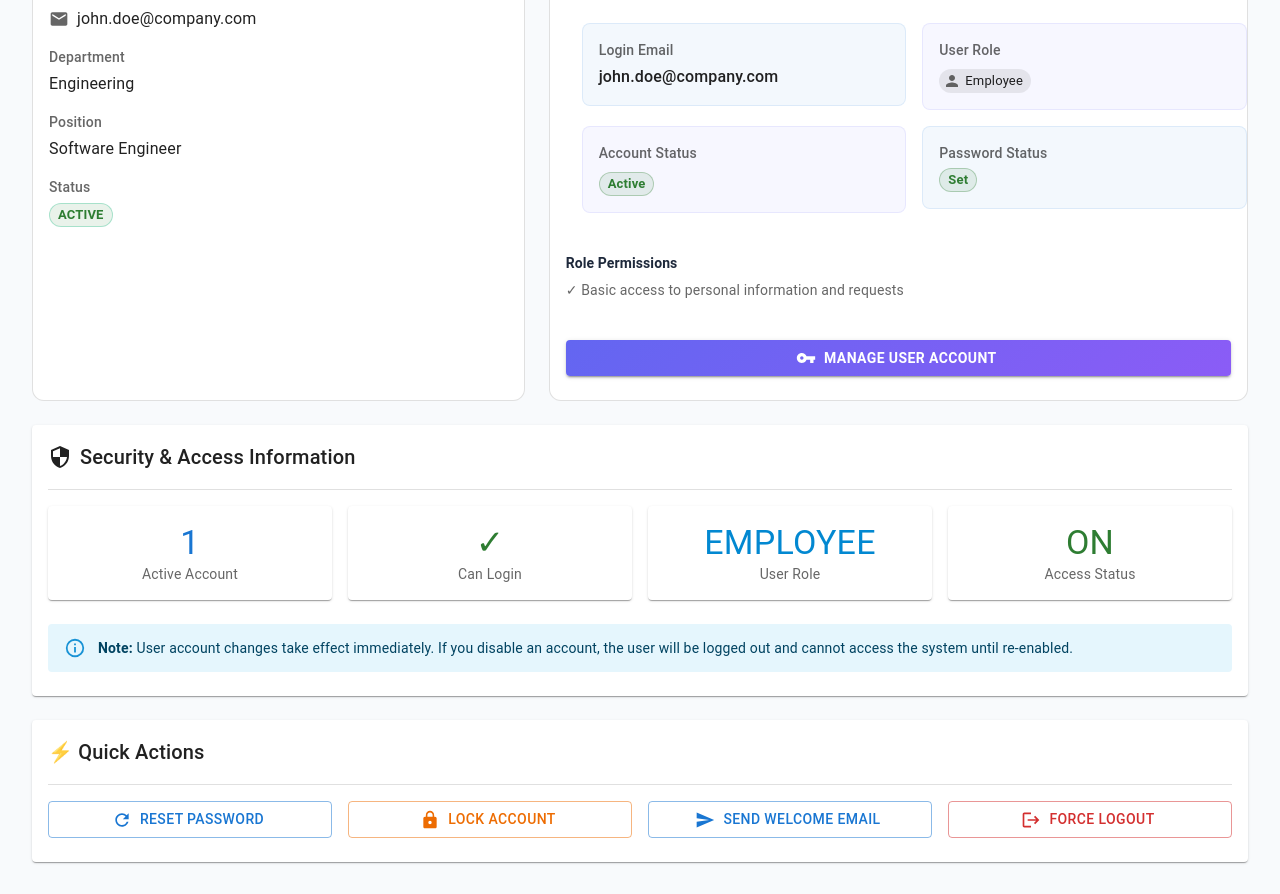
Test case: UserAccountManagementPage › Quick Actions - Confirmation Dialogs › opens Lock Account confirmation dialog
The image size is (1280, 894).
(page scrolled)
Step 1. Click the button with aria-label "lock this account" → coordinates (490, 820), box x1=348 y1=802 x2=632 y2=838
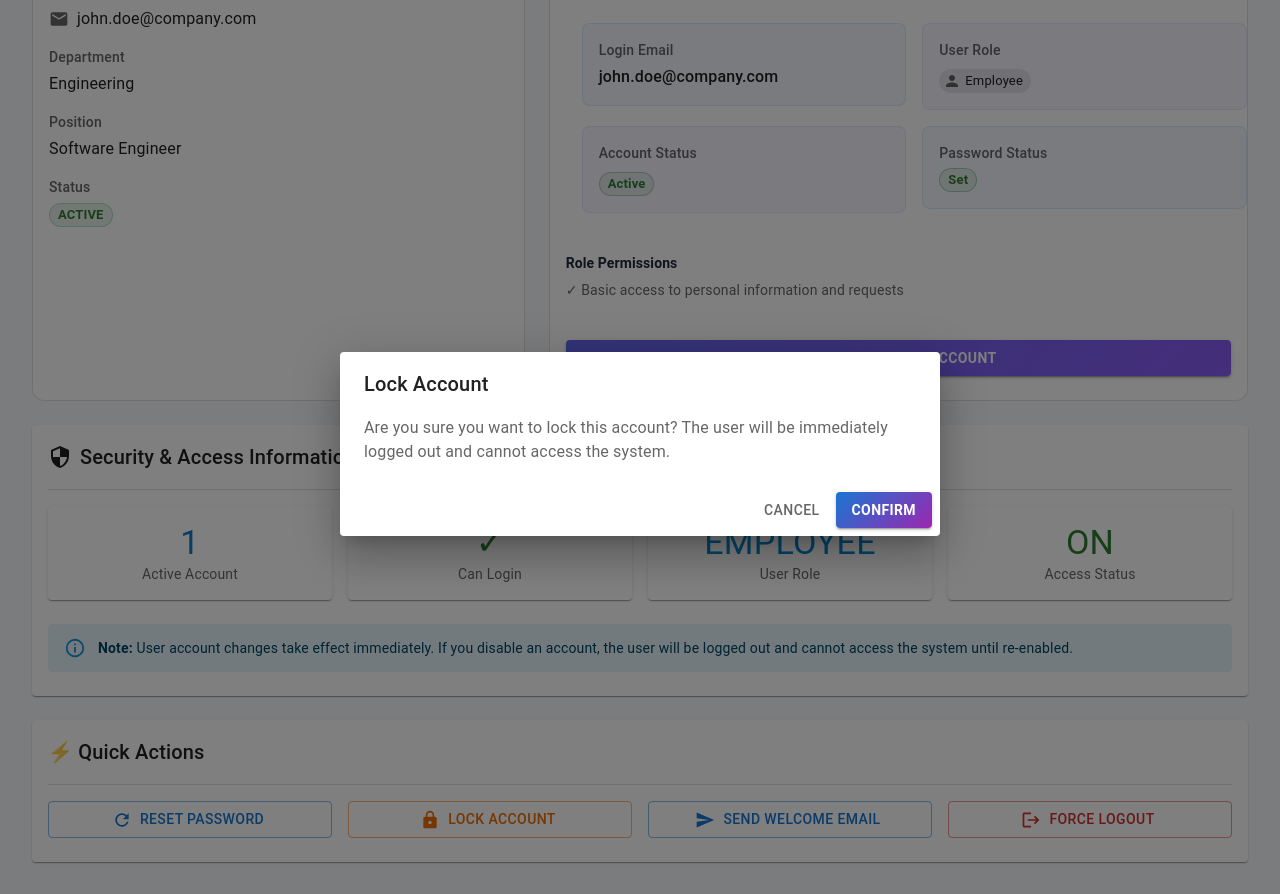
Result: the dialog is shown at x1=340 y1=352 x2=940 y2=536
Result: the text "Are you sure you want to lock" is shown at x1=364 y1=418 x2=888 y2=461
